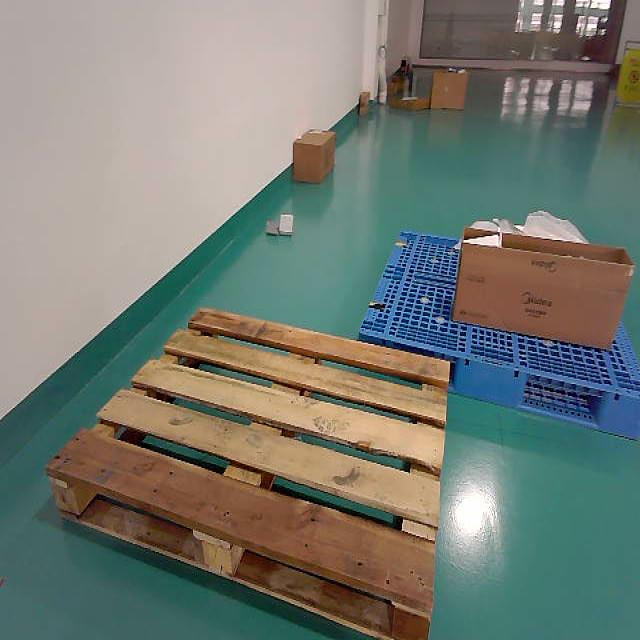euro: (48, 308, 444, 639)
